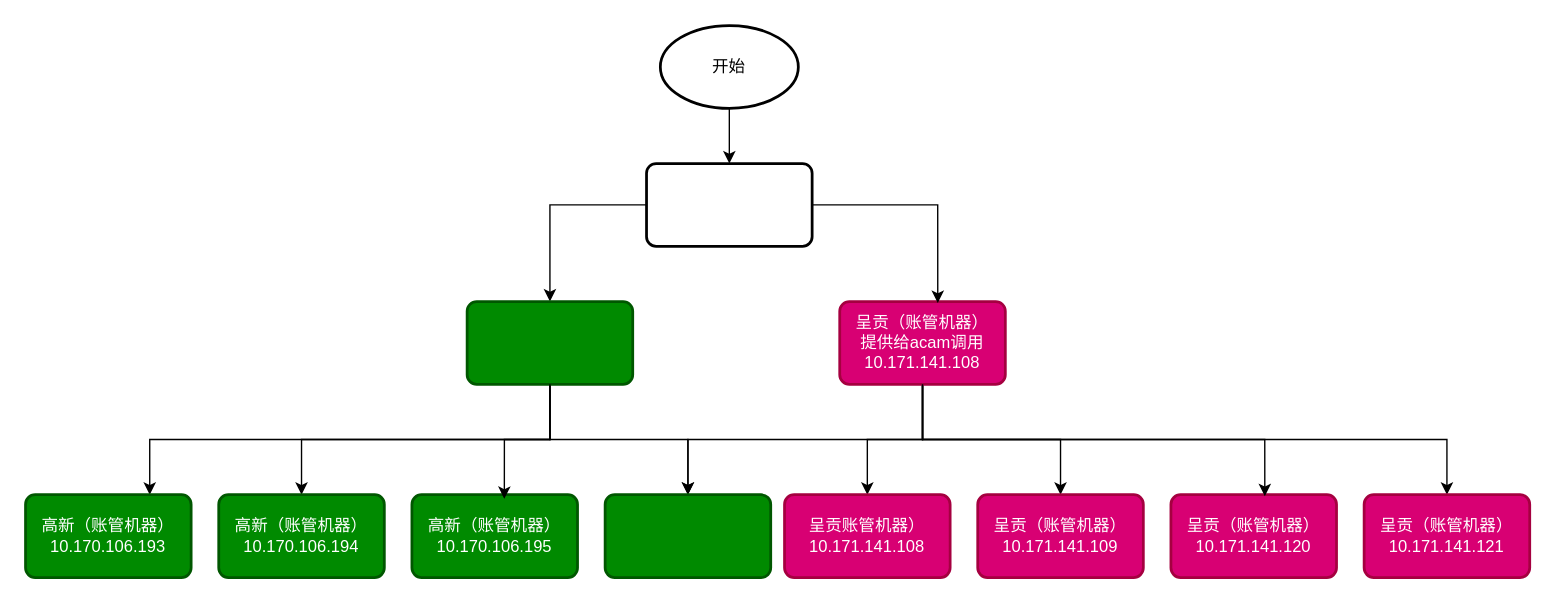
Some shapes in this 1554 by 602 pixel diagram are drawn without their labels. The centre of each missing label's shape, as x and y in pixels:
acam平台: the point at 728,204
高新（账管机器） 10.170.106.196: the point at 687,535
高新（账管机器） 提供给acam调用 10.170.106.193: the point at 549,342
